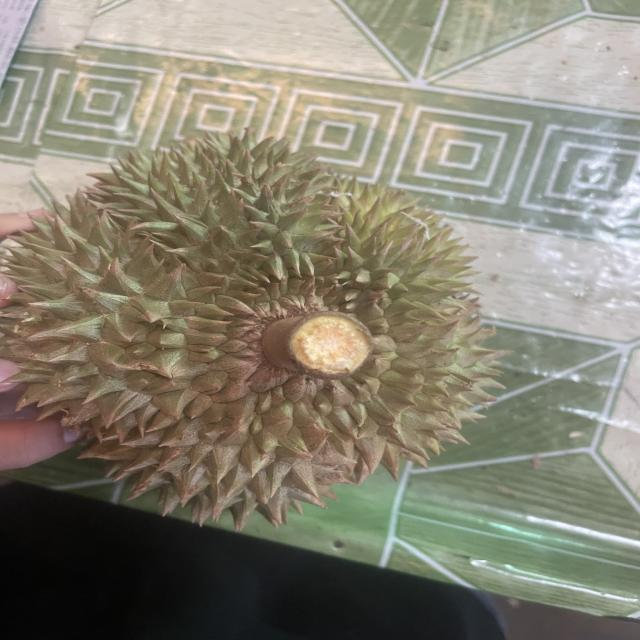mature: (4, 118, 520, 534)
